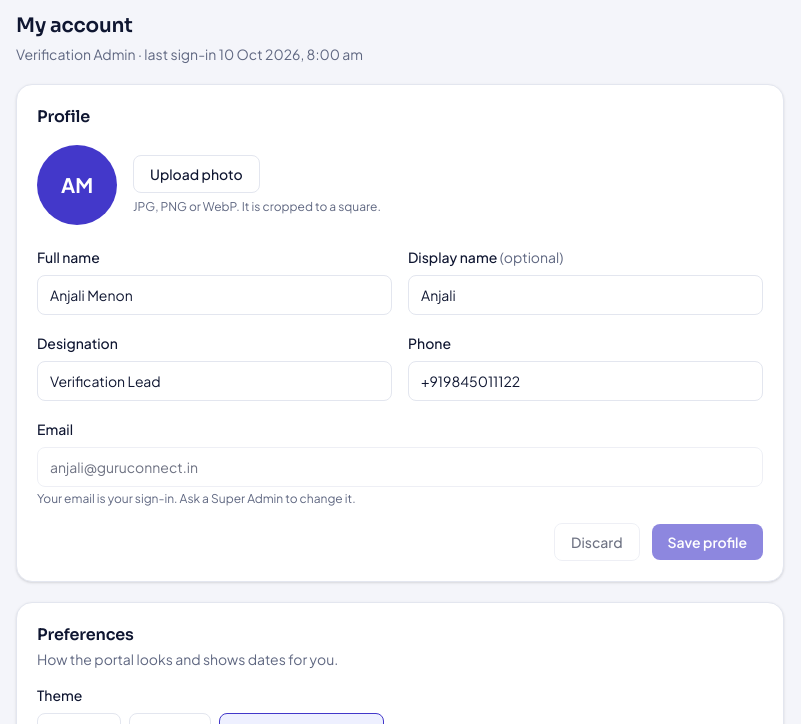
AccountPage › offers to reload when the profile changed in another tab
Type "Head of Verification" into the field labelled "Designation". click: point(214, 381)
box: [37,361,392,401]
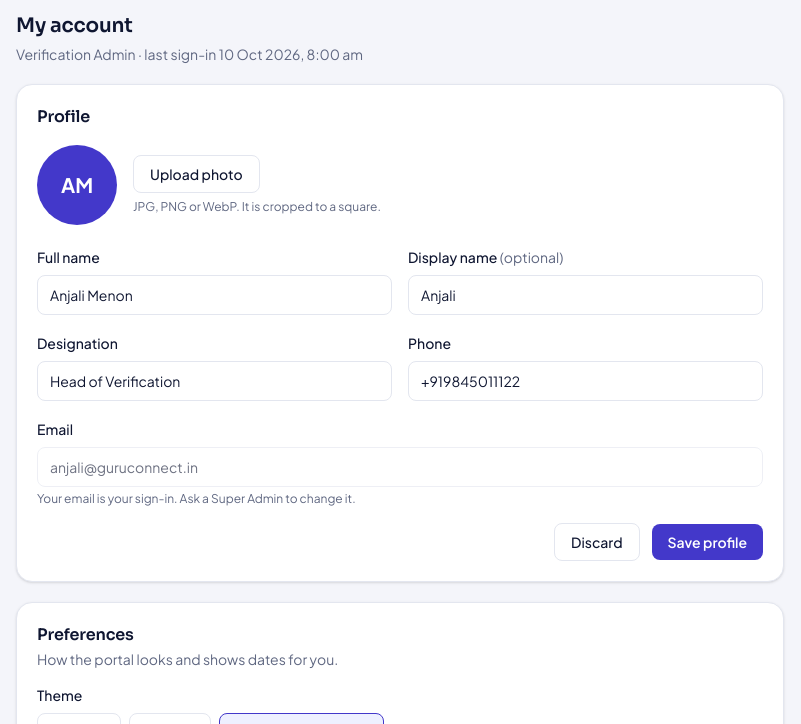
Click the button "Save profile". click: point(707, 542)
box: [652,524,763,560]
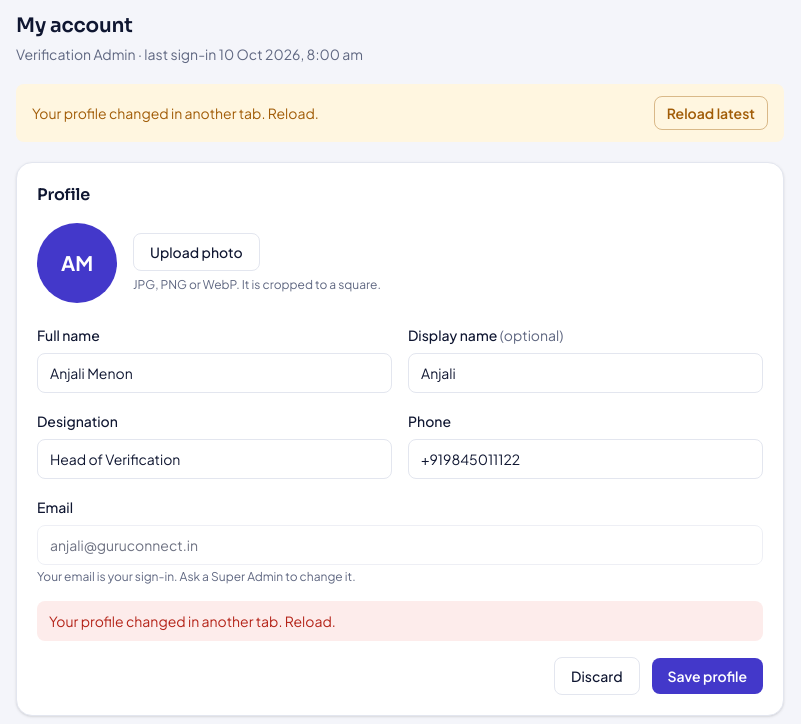
Now the text "Your profile changed in another tab. Reload." is shown, box [32,103,319,123]
Click the button "Reload latest". click: point(711, 113)
box: [654,96,768,130]
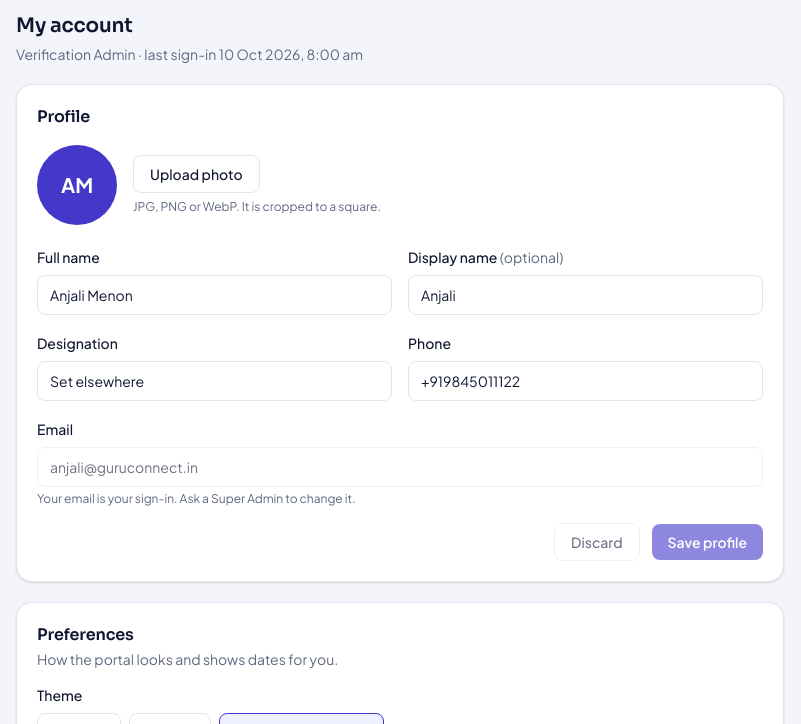
Now the field labelled "Designation" holds "Set elsewhere", box [37,361,392,401]
Now the button "Reload latest" is gone
